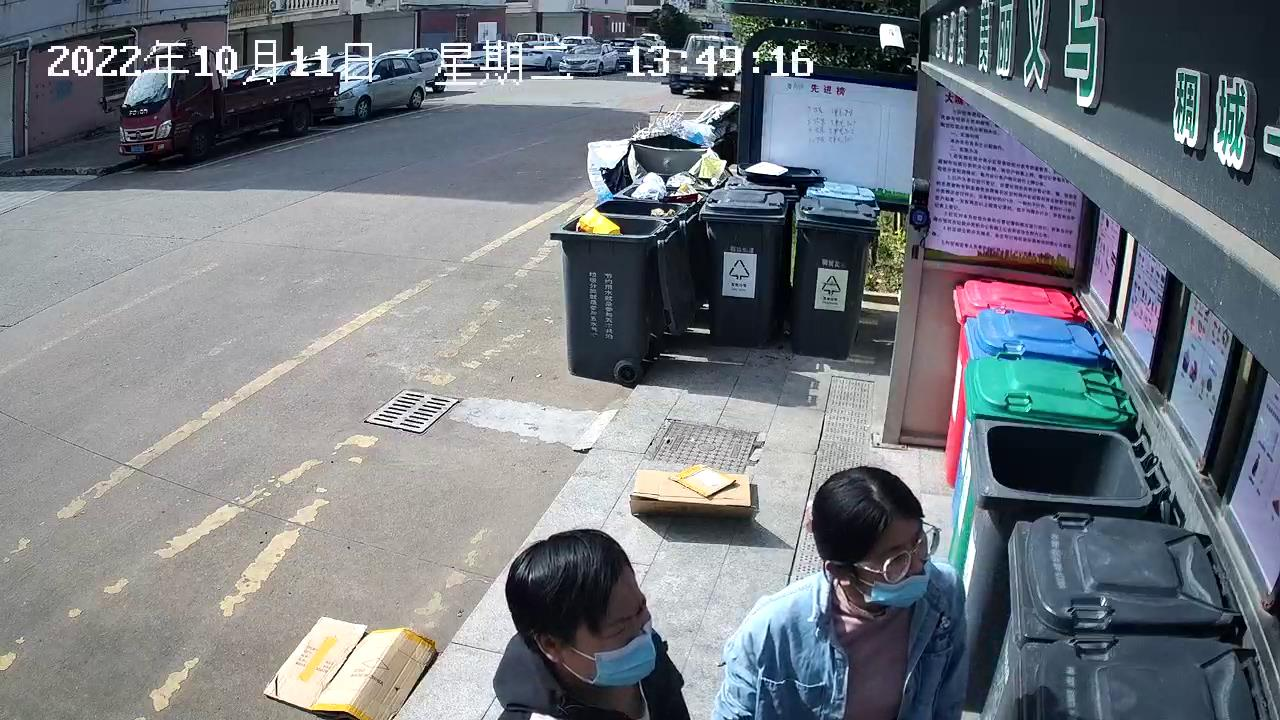person: (480, 525, 704, 720)
worker: (706, 461, 977, 720)
zhizhipin: (256, 609, 443, 720), (625, 459, 763, 526)
